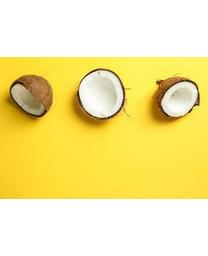coconut: (77, 68, 126, 120), (155, 76, 200, 121), (9, 74, 53, 118)
